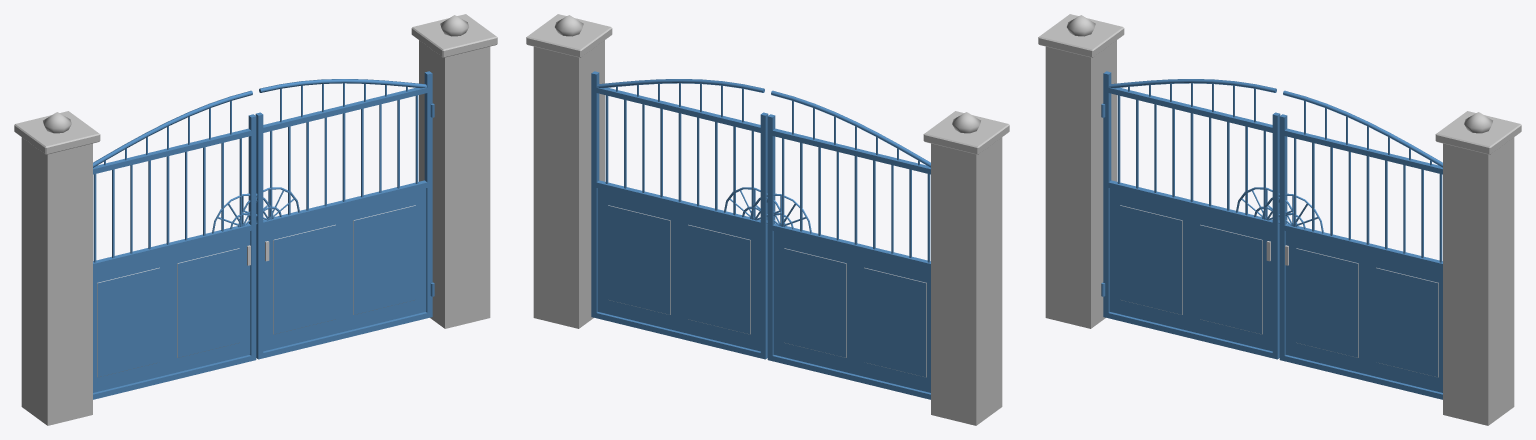
The model's file is gate_havli_blue.glb.
3 views of the same model, side by side, from view 1: azimuth 30°, elevation 25°; view 2: azimuth 150°, elevation 25°; view 3: azimuth 330°, elevation 25° (orthographic).
Parts seen in each view (by area): view 1: gate_havli_blue; view 2: gate_havli_blue; view 3: gate_havli_blue.
Part boxes in pixels (left/top/right/bottom): gate_havli_blue: left=14, top=14, right=497, bottom=425; gate_havli_blue: left=526, top=14, right=1009, bottom=425; gate_havli_blue: left=1038, top=14, right=1521, bottom=425.
Bounding box in the file's own units: 4.5 × 2.84 × 0.55.
